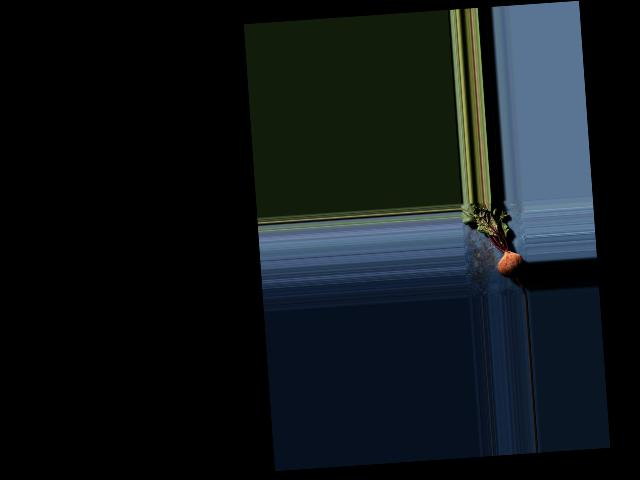beet: (460, 198, 526, 298)
